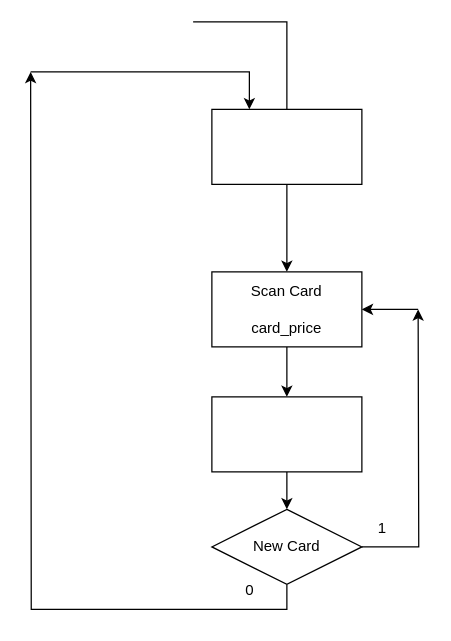
Image size: 451x641. Some labels were removed from this diagram. Here are the shapes that lost their labels. From the top down, the box of each, then its label:
(211, 108, 362, 184): Setup
(211, 396, 362, 472): Sort Card card_position
